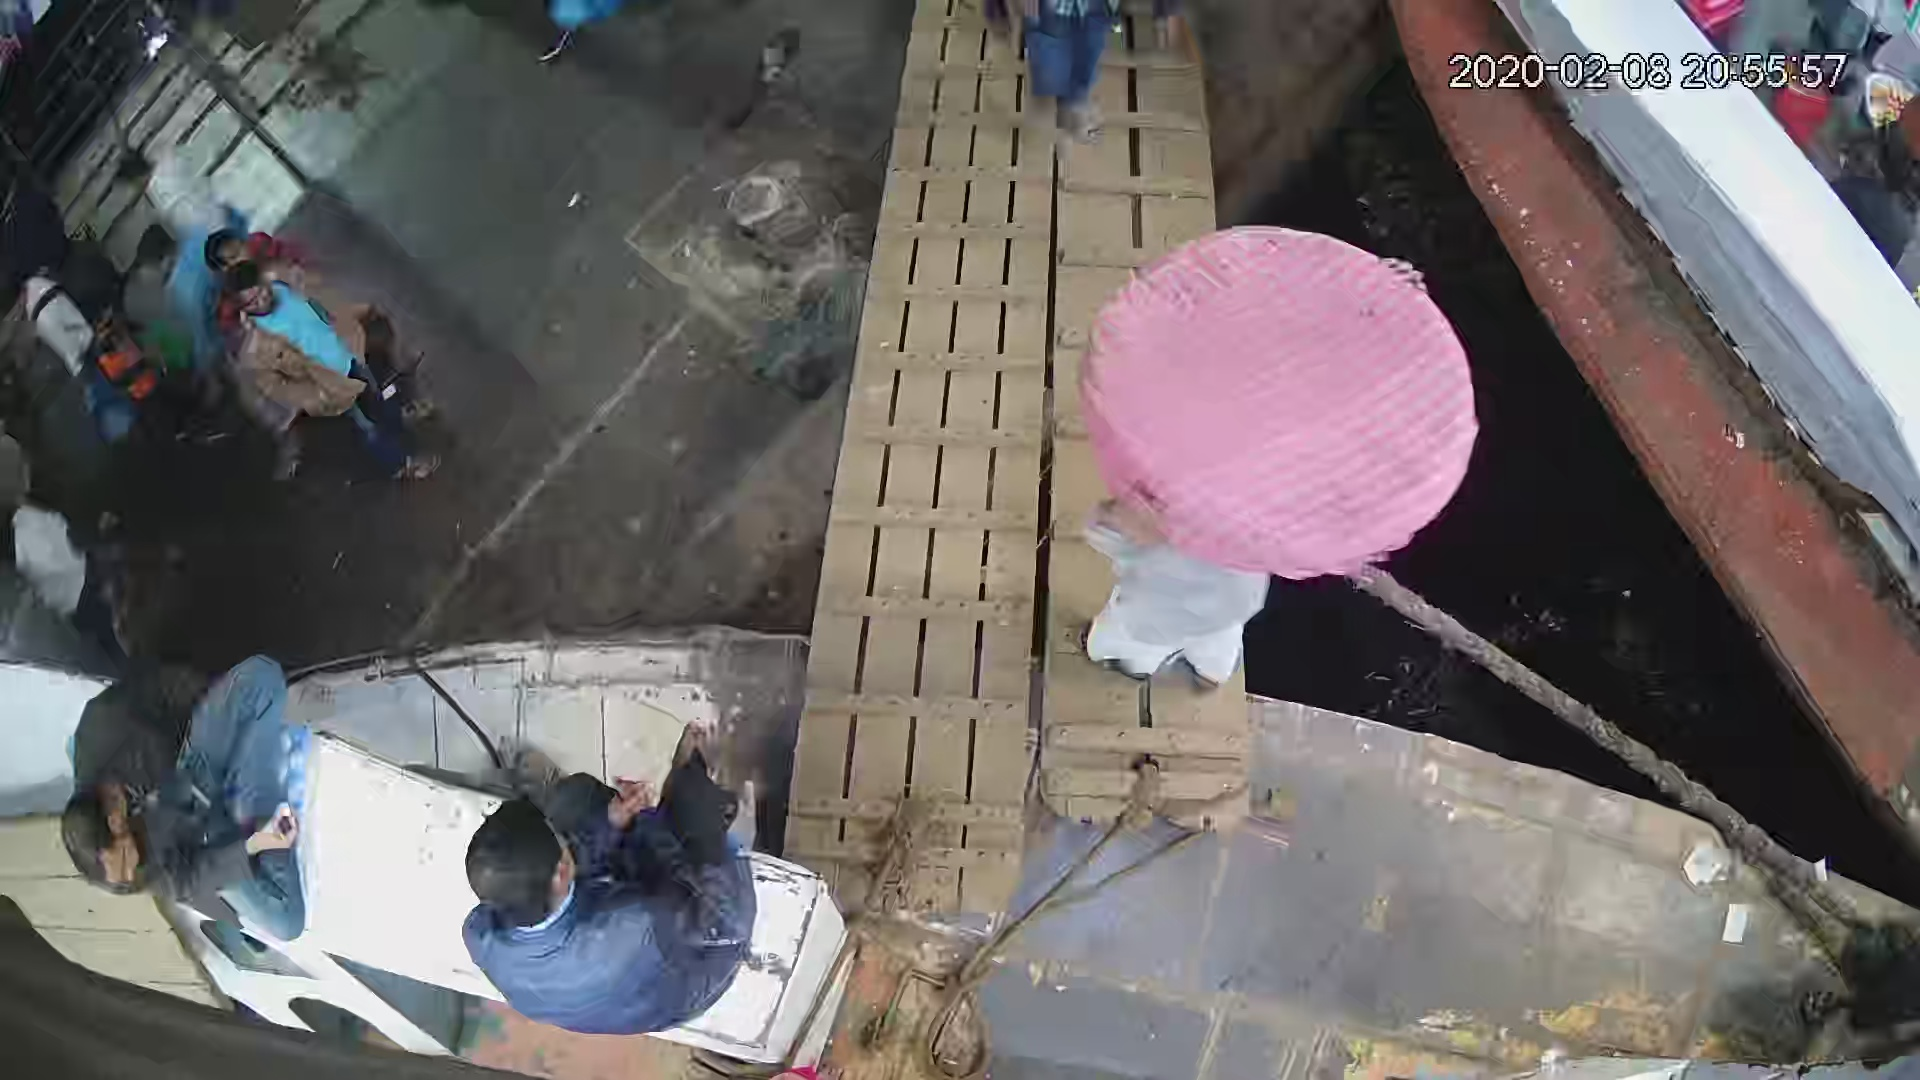person: (1066, 249, 1460, 698), (450, 728, 757, 1038), (54, 659, 315, 947), (229, 270, 445, 490), (972, 1, 1157, 149), (10, 270, 156, 431)
